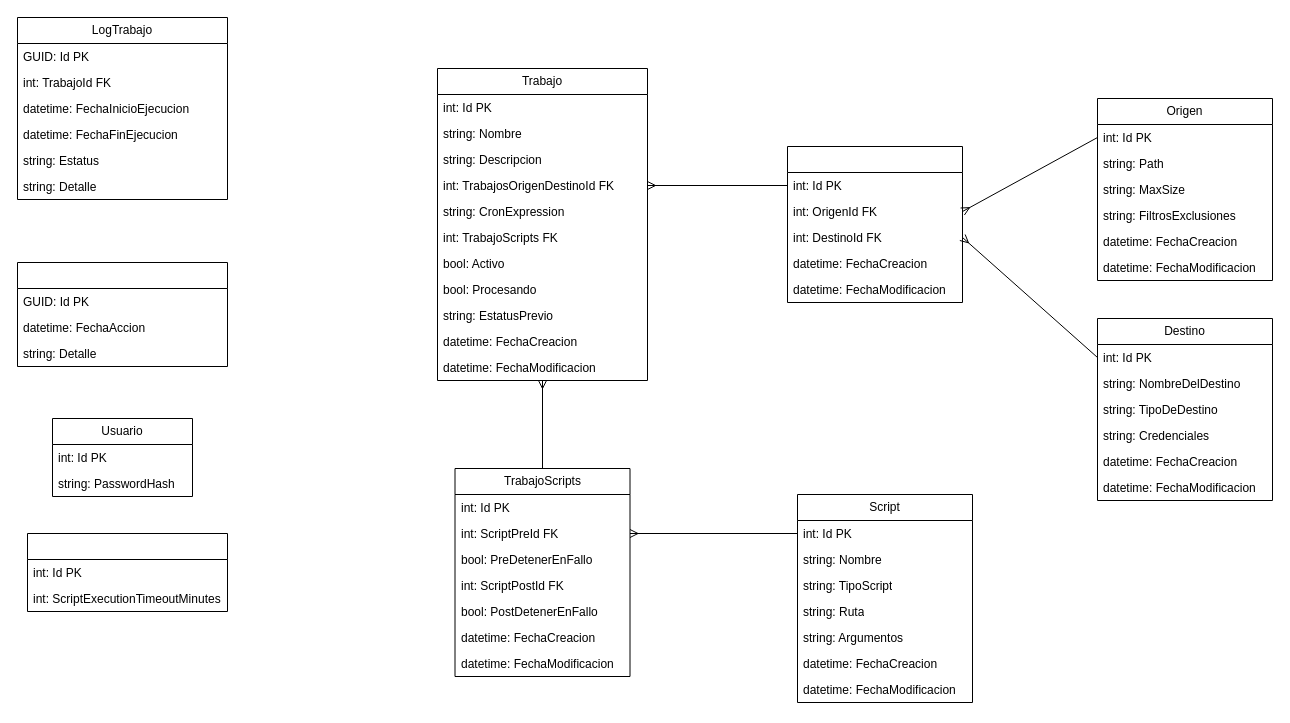
The diagram is 1290 pixels wide and 723 high, and some of its shapes have lost their labels. Here are the shapes that lost their labels. From the top down, the box of each, then its label:
(786, 146, 962, 302): TrabajosOrigenDestino
(16, 262, 228, 366): LogAccionesUsuario
(26, 532, 228, 612): ApplicationSettings
